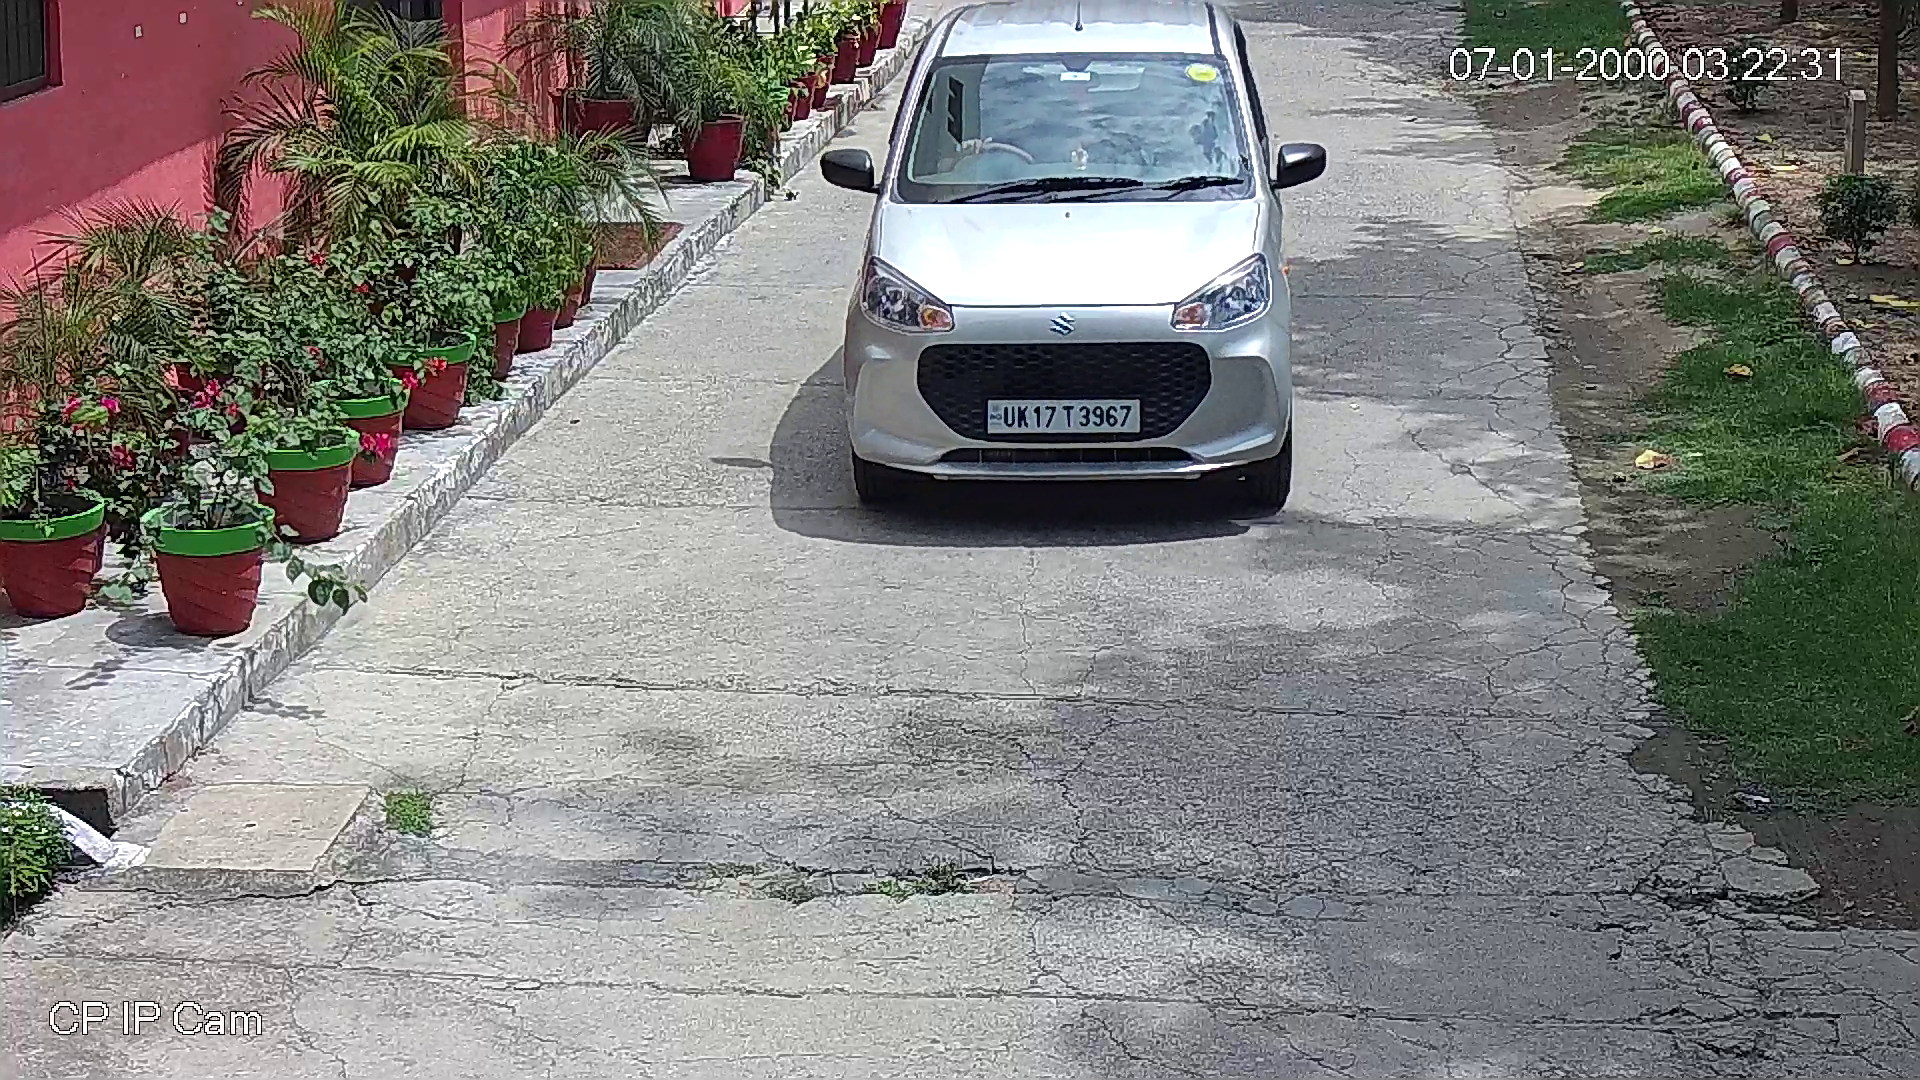plate: (988, 398, 1139, 434)
